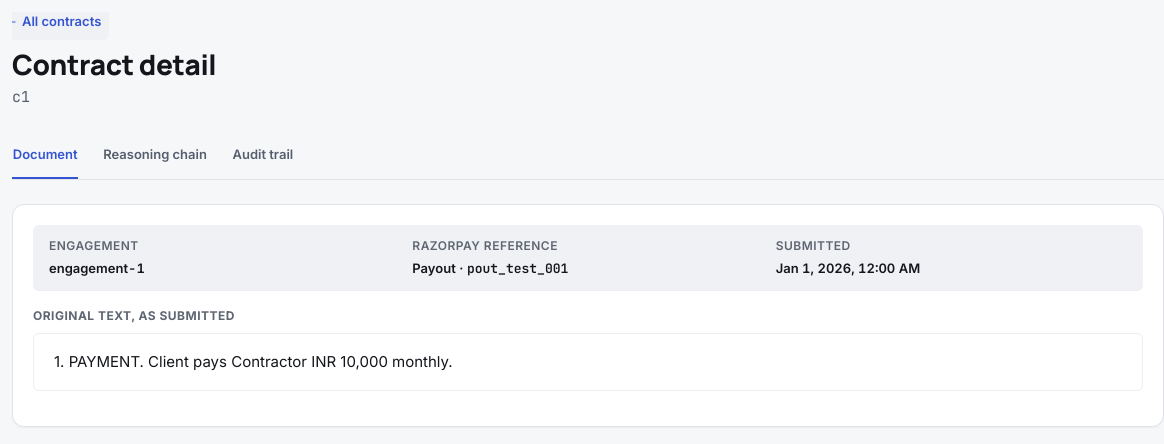
it: ContractDetailPage › shows an explicit 'no platform evidence' state for a clause with no linked mismatch
The image size is (1164, 444).
Click the tab "Reasoning chain" at (155, 156), box 102,133 -> 208,179
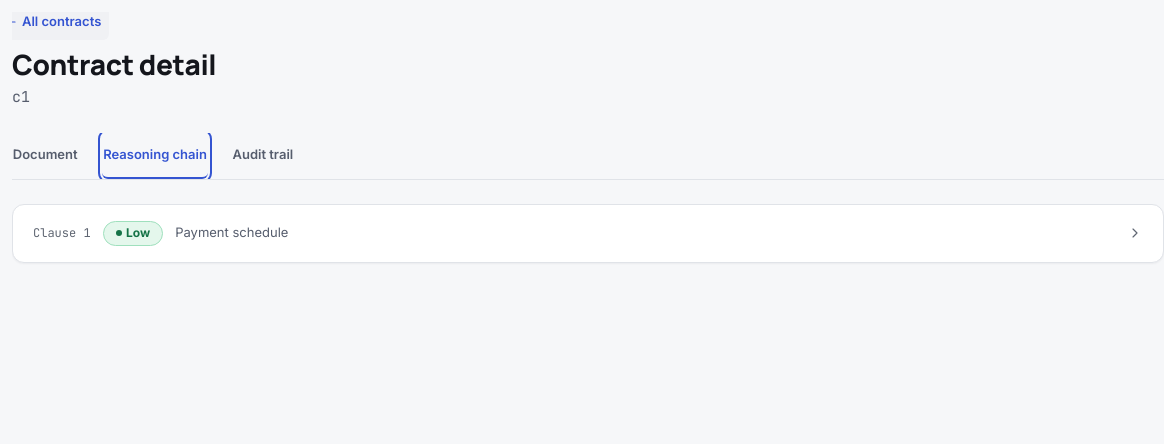
Expected: the list with test id "clause-chain" is shown, 12,204 -> 1163,263
